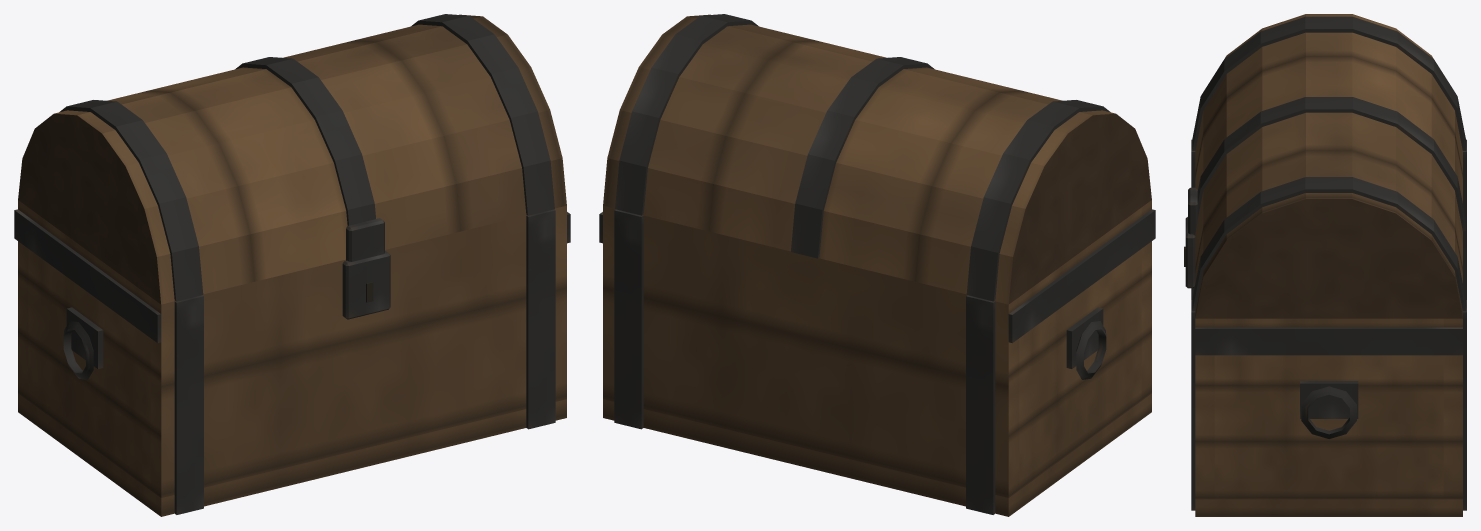
Rendered from chest_cs.obj.
3 renders of one model, left to right at view 1: azimuth 30°, elevation 25°; view 2: azimuth 150°, elevation 25°; view 3: azimuth 270°, elevation 25°, orthographic. The views are drawn at different scales.
Visible parts, largest first — view 1: chest_cs, chest_cs_lid; view 2: chest_cs, chest_cs_lid; view 3: chest_cs_lid, chest_cs.
Part boxes in pixels (bbox=[...]): chest_cs: bbox=[14, 200, 570, 516]; chest_cs_lid: bbox=[18, 14, 566, 304]; chest_cs: bbox=[599, 200, 1155, 516]; chest_cs_lid: bbox=[603, 14, 1151, 304]; chest_cs_lid: bbox=[1188, 14, 1465, 318]; chest_cs: bbox=[1184, 139, 1466, 516].
Bounding box in the file's own units: 0.9653 × 0.7287 × 0.581.
1 material, 1 textured.
